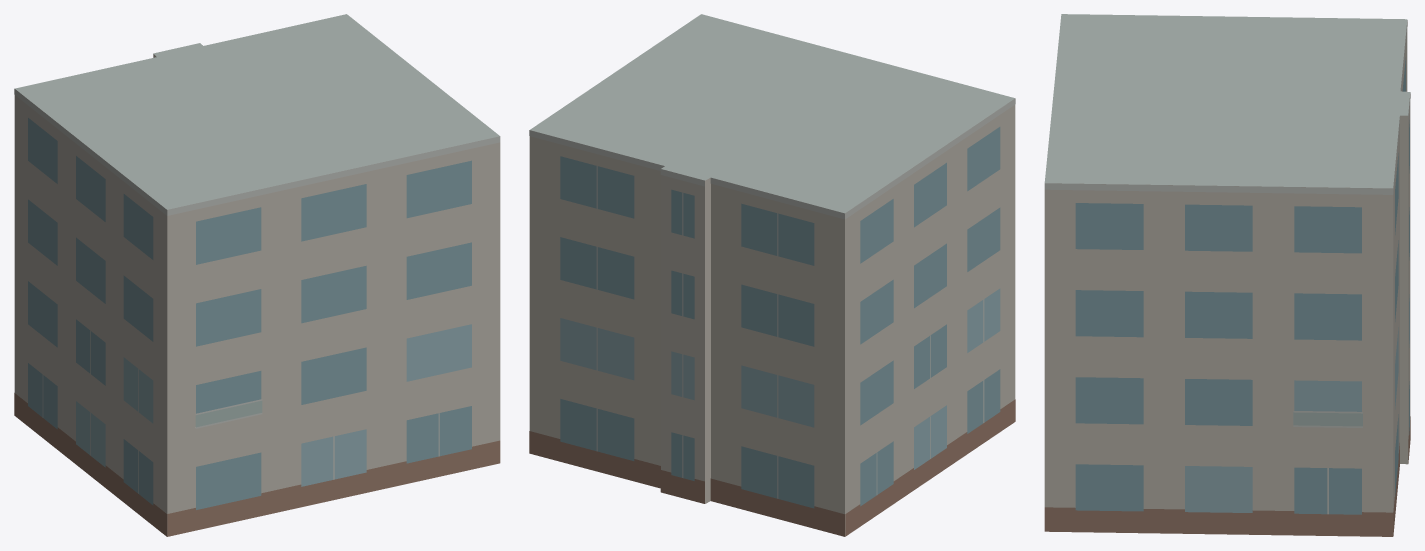
File: survey-upis-32916675.glb
3 views of the same model, side by side, from view 1: azimuth 30°, elevation 25°; view 2: azimuth 150°, elevation 25°; view 3: azimuth 270°, elevation 25° (orthographic). The views are drawn at different scales.
Visible parts, largest first — view 1: survey-upis-32916675.tmp; view 2: survey-upis-32916675.tmp; view 3: survey-upis-32916675.tmp.
Part boxes in pixels (box(x1,y1,x2,y2)): survey-upis-32916675.tmp: box(14, 14, 500, 536); survey-upis-32916675.tmp: box(529, 14, 1015, 536); survey-upis-32916675.tmp: box(1044, 14, 1410, 536).
Size of the model in its own units: 13.97 by 13 by 12.38.
